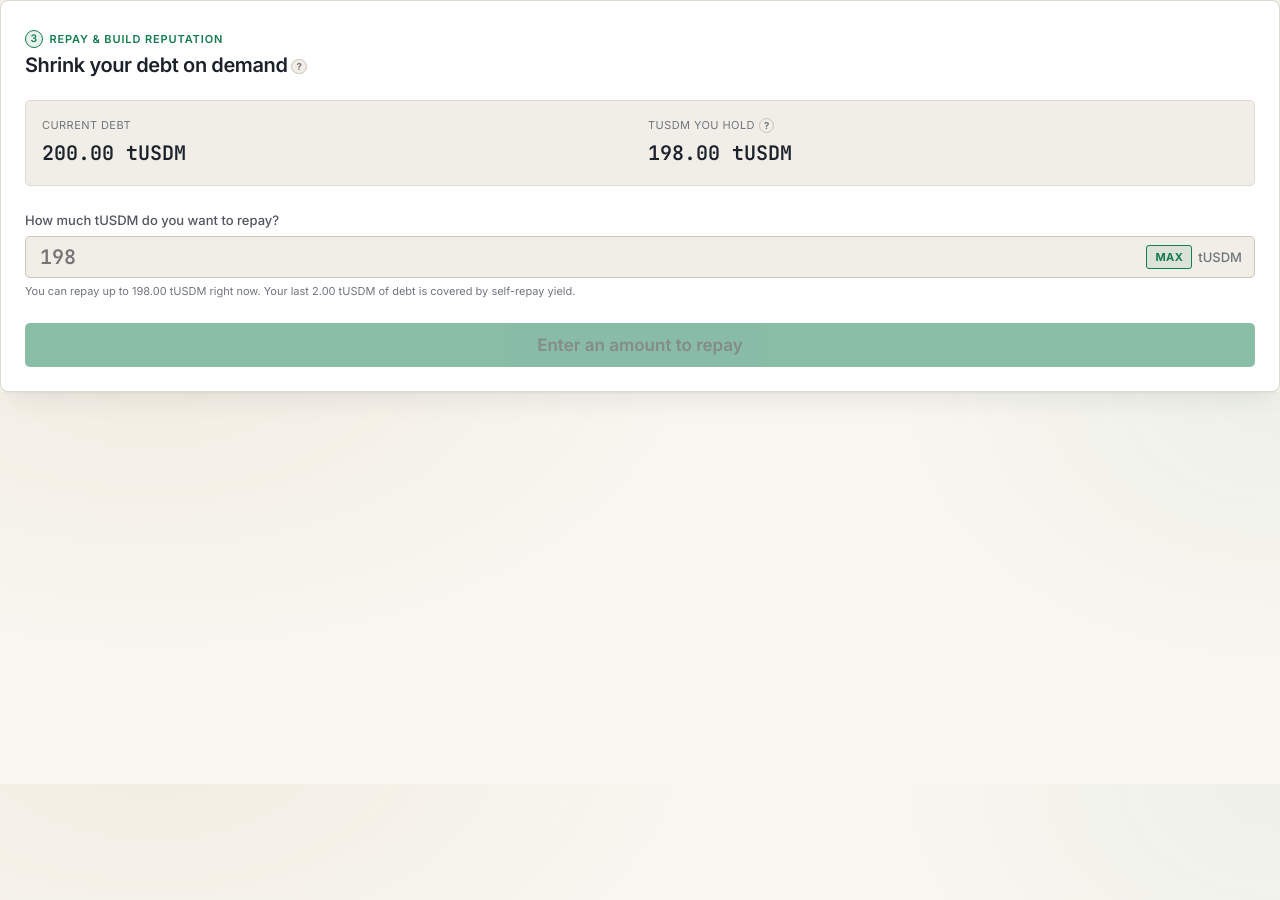
Test: RepayPanel › caps Max at the tUSDM held, not the gross debt
Expected: the text "198.00 tUSDM" is shown, x1=648 y1=140 x2=792 y2=166
Click the button "Max" at (1169, 258), box x1=1146 y1=246 x2=1192 y2=270
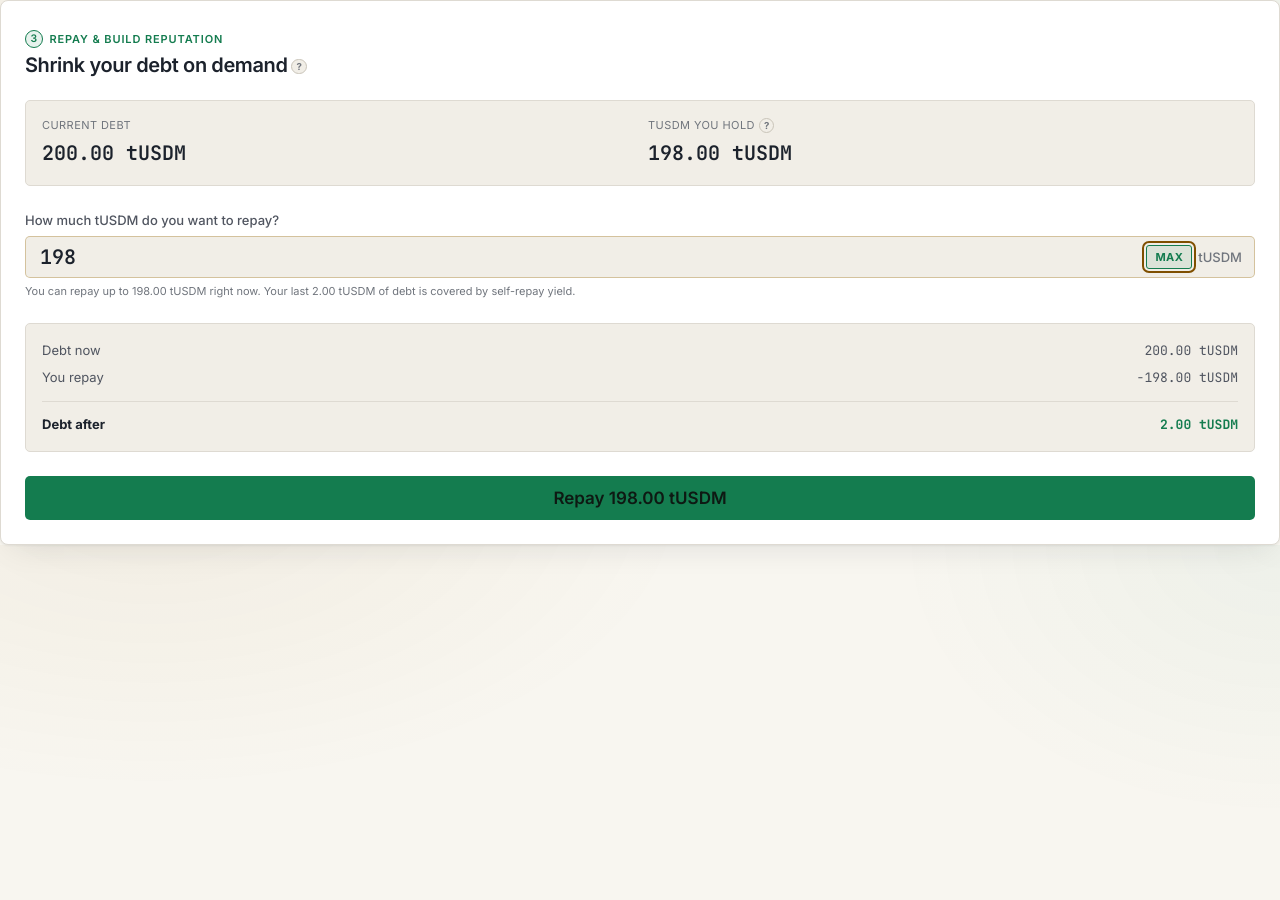
Expected: the text "covered by self-repay yield" is shown, x1=375 y1=284 x2=575 y2=298
Expected: the field labelled "How much tUSDM do you want to repay?" holds "198", x1=38 y1=244 x2=1140 y2=272
